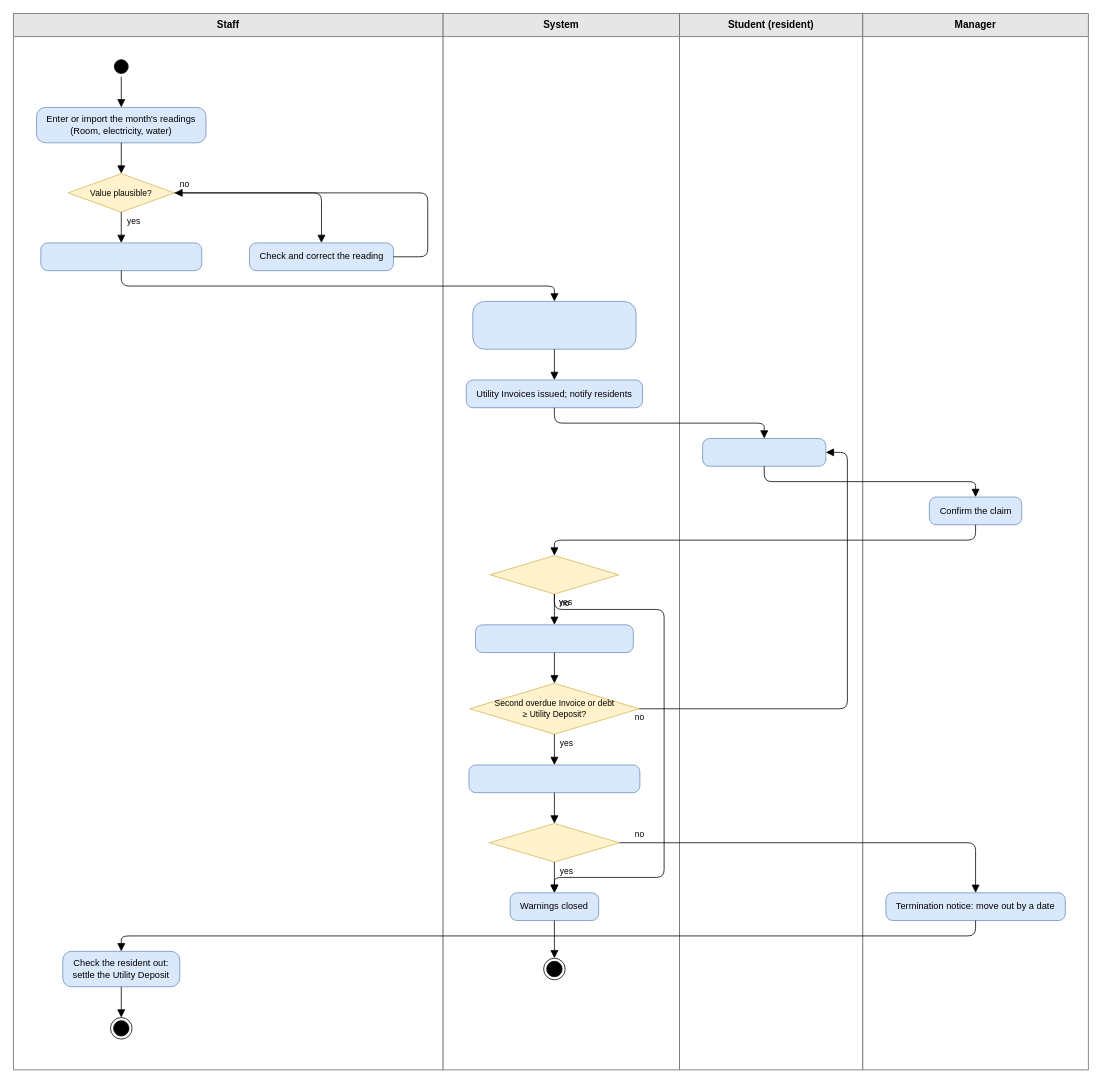
The diagram is 1102 pixels wide and 1083 high, and some of its shapes have lost their labels. Each missing label, with the centre of its shape:
"Confirm readings, close the period" goes at pixel 121 256.
"Final warning with a termination date" goes at pixel 554 778.
"Invoice Overdue; Utility warning 1" goes at pixel 554 638.
"Paid before that date?" goes at pixel 554 842.
"Paid by the due date?" goes at pixel 554 574.
"Pay by VietQR and claim" goes at pixel 764 452.
"Split each Room's cost between its residents by days lived (meter cuts)" goes at pixel 554 325.
